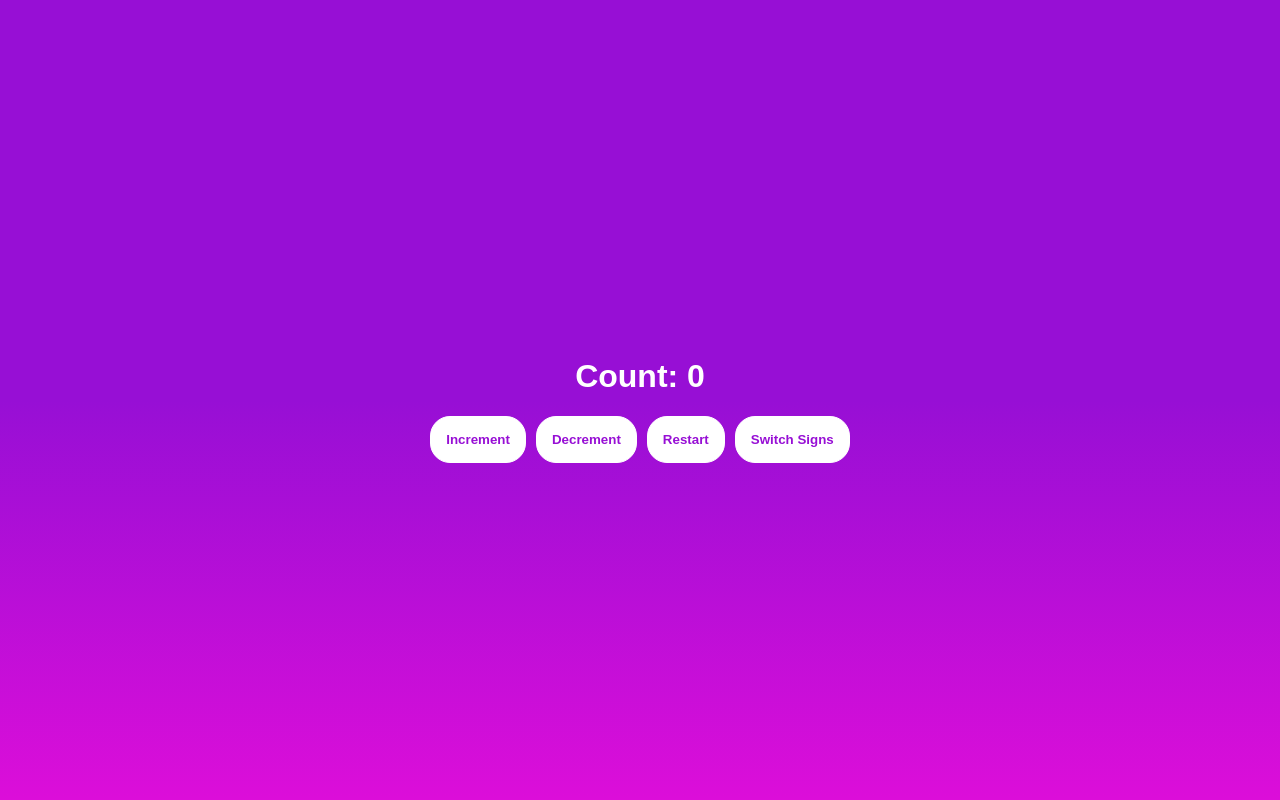
Test case: Counter App › Increment the counter to 1
Click the button "Increment".
click(478, 440)  # box [430,416,526,463]
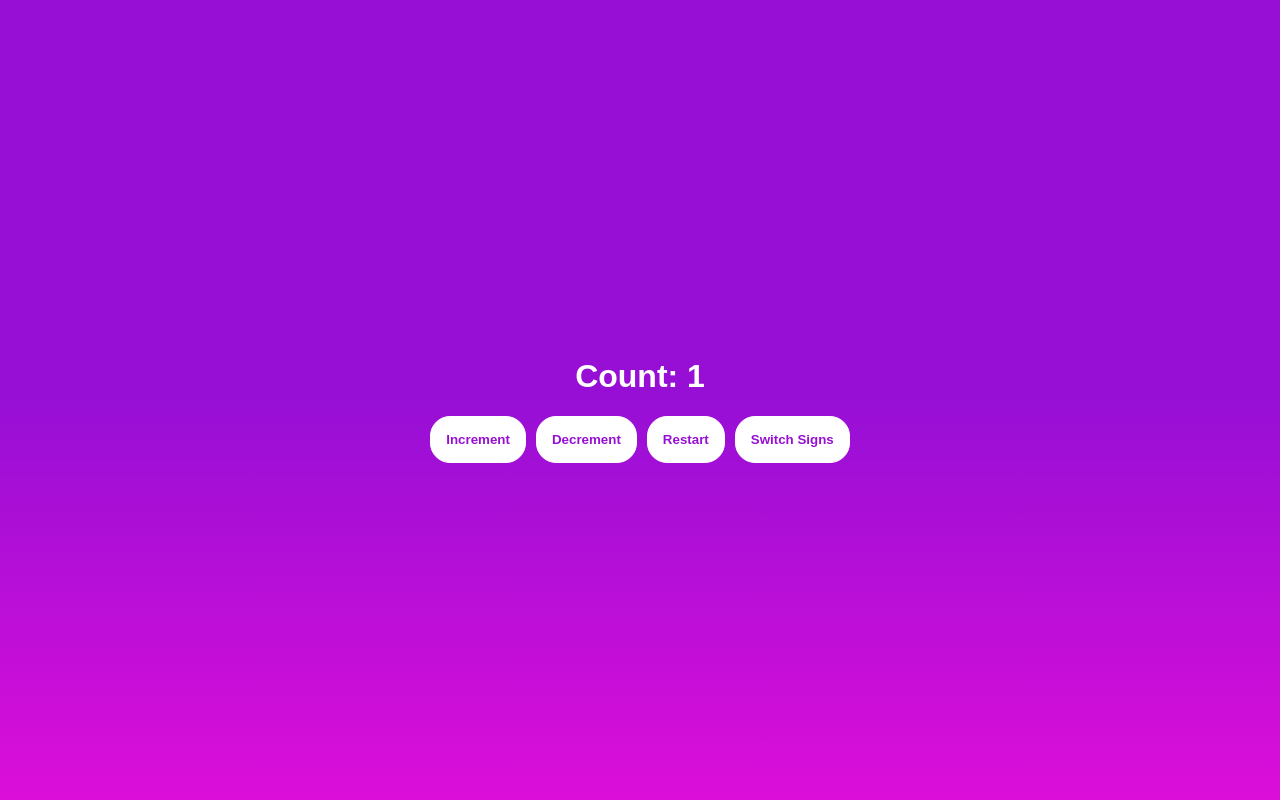
Click the button "Increment".
click(478, 440)  # box [430,416,526,463]
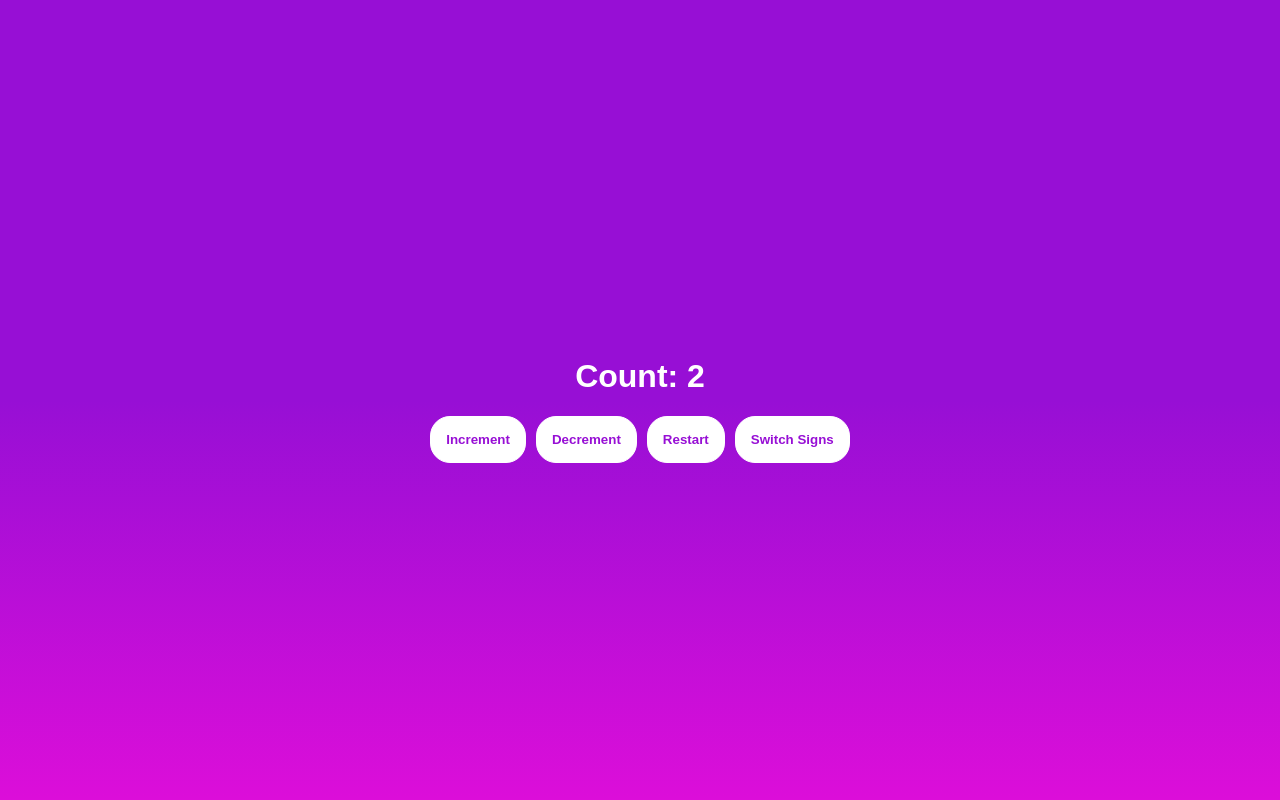
Result: the heading "Count: 2" is shown at [575,358,705,395]
